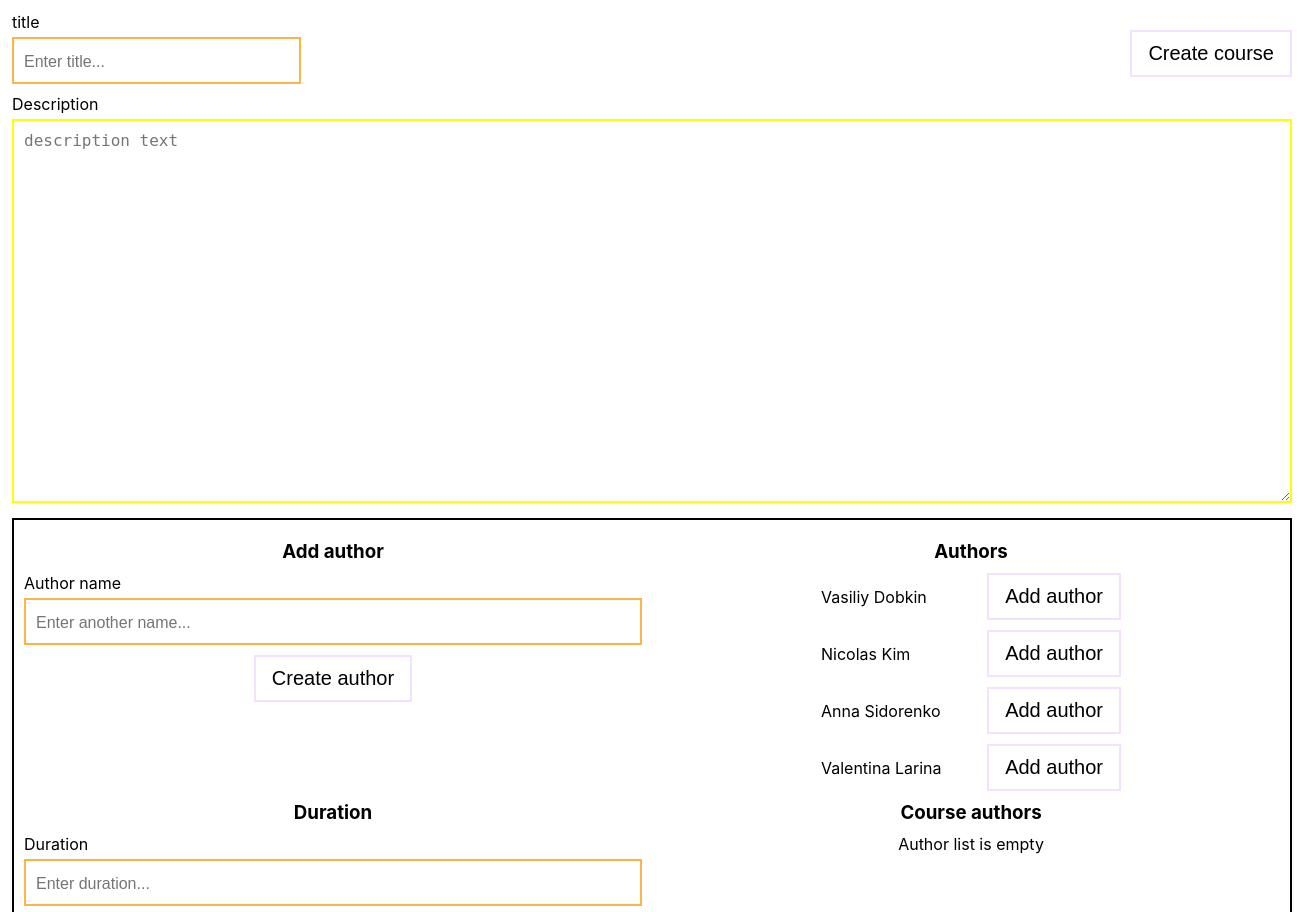
Test: CourseForm › should delete an author from the course list after clicking on remove button
The image size is (1304, 912).
Click the button "Add author" next to "Vasiliy Dobkin" at (1054, 596), box [987,573,1121,620]
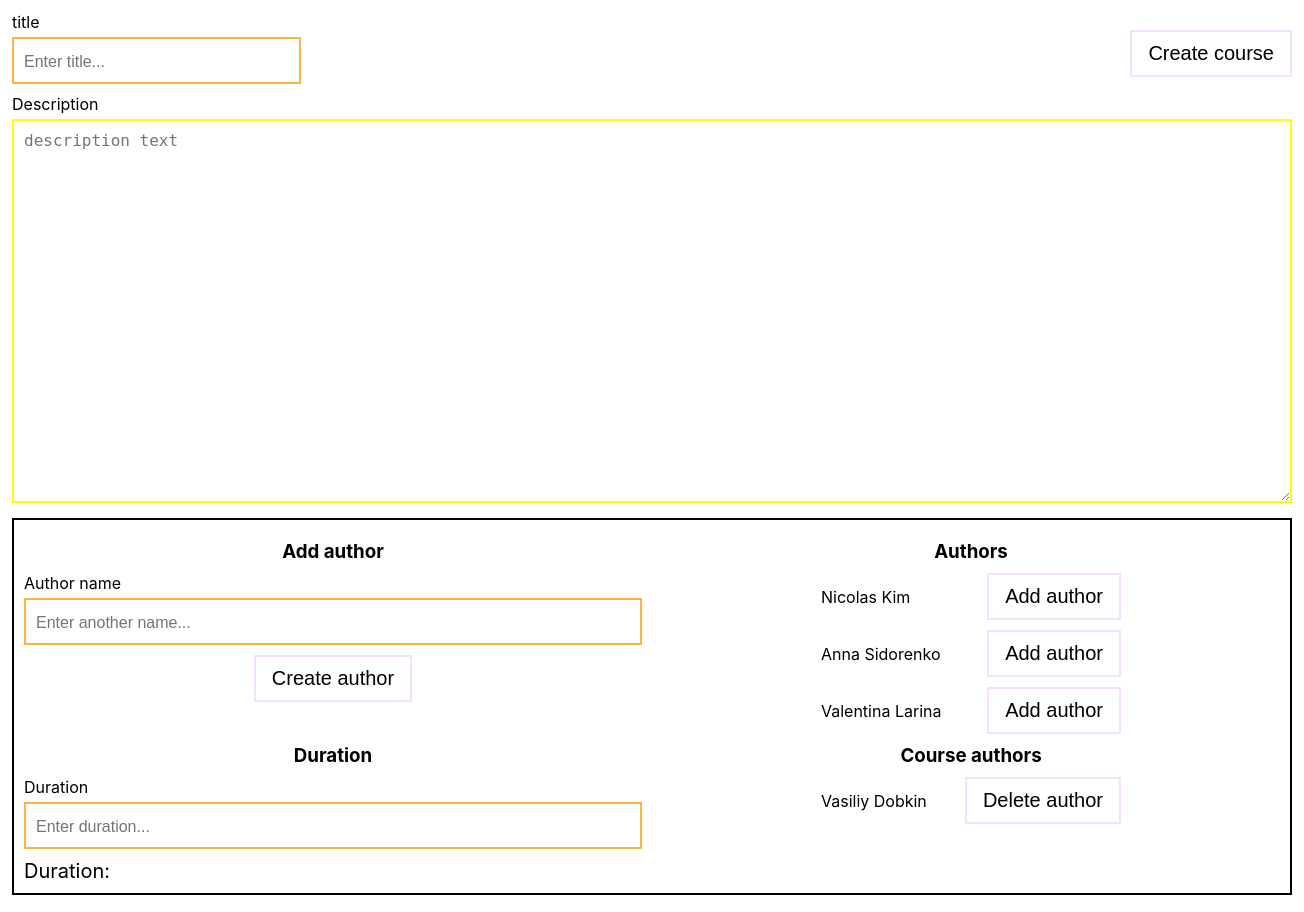
Click the button "Delete author" at (1043, 800), box [965,777,1121,824]
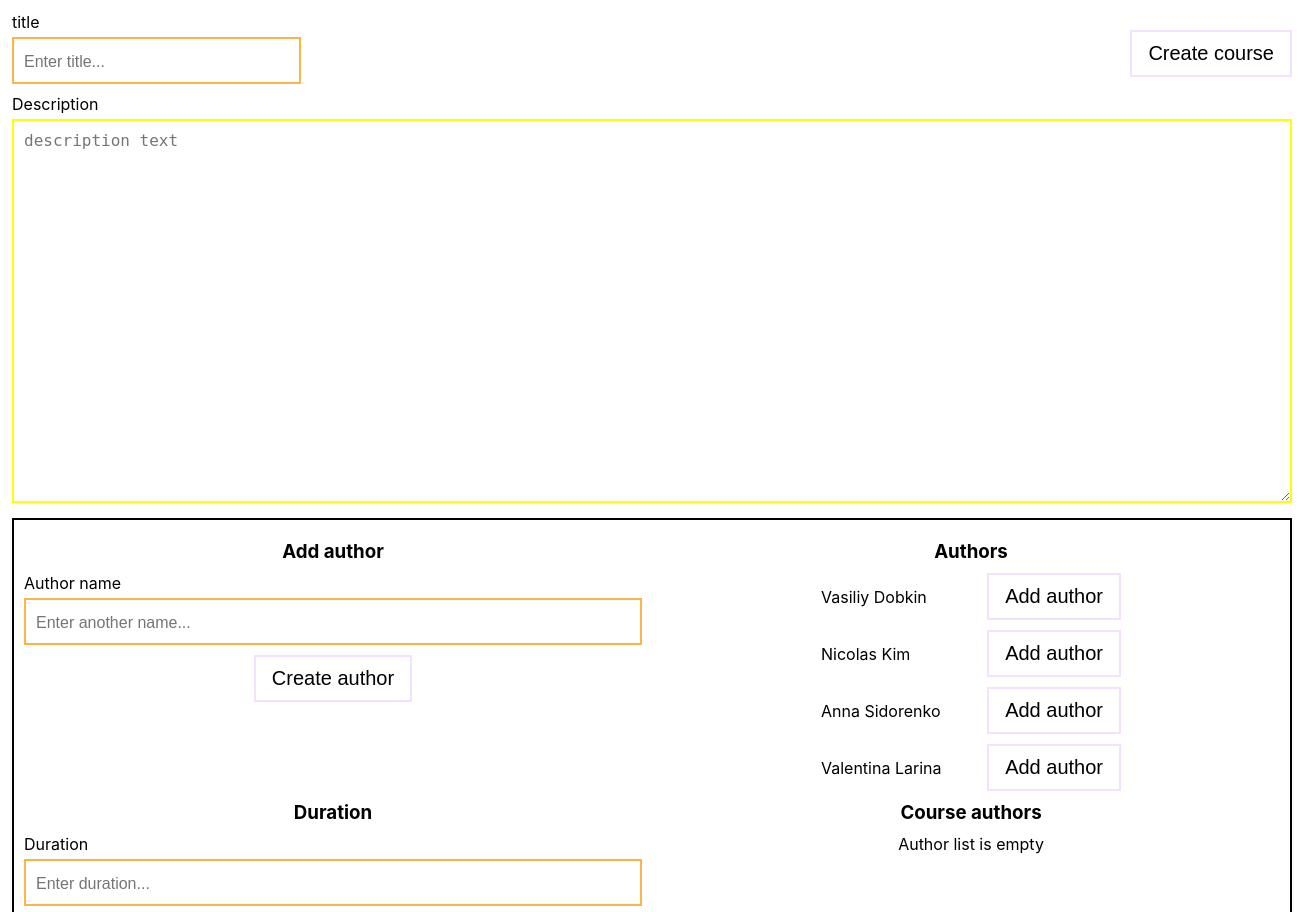
Expected: the text "Author list is empty" is shown, [898,834,1044,854]
